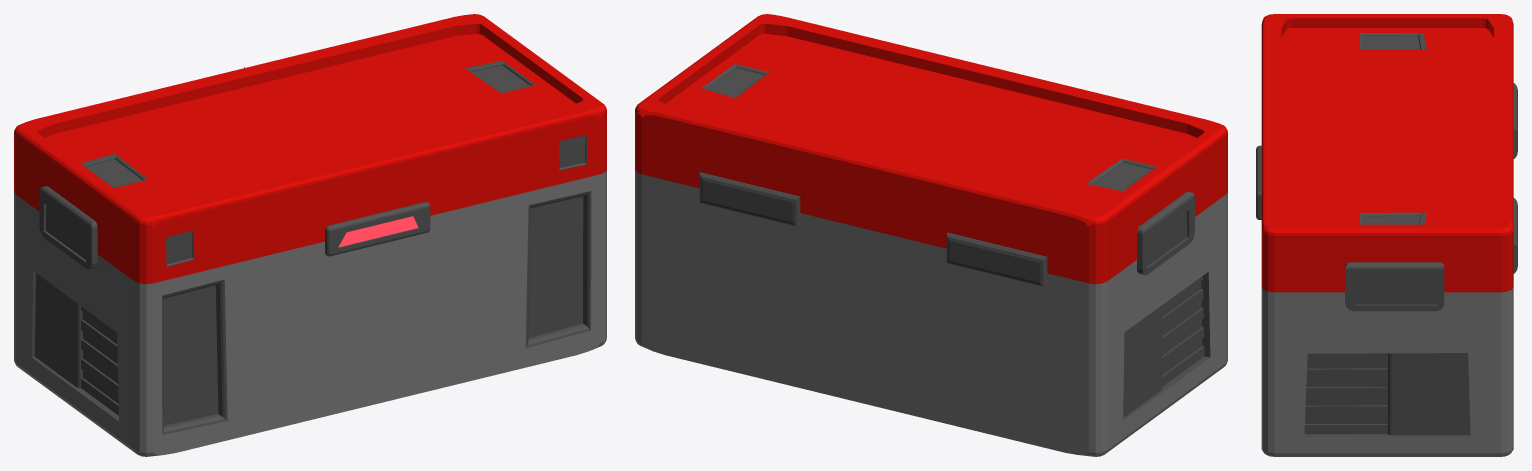
File: Chest_2.fbx
3 views of the same model, side by side, from view 1: azimuth 30°, elevation 25°; view 2: azimuth 150°, elevation 25°; view 3: azimuth 270°, elevation 25° (orthographic). The views are drawn at different scales.
Parts seen in each view (by area): view 1: Chest2; view 2: Chest2; view 3: Chest2.
Part boxes in pixels (bbox=[...]): Chest2: bbox=[14, 14, 606, 456]; Chest2: bbox=[635, 14, 1227, 456]; Chest2: bbox=[1256, 14, 1517, 456].
Size of the model in its own units: 421 by 201 by 208.
